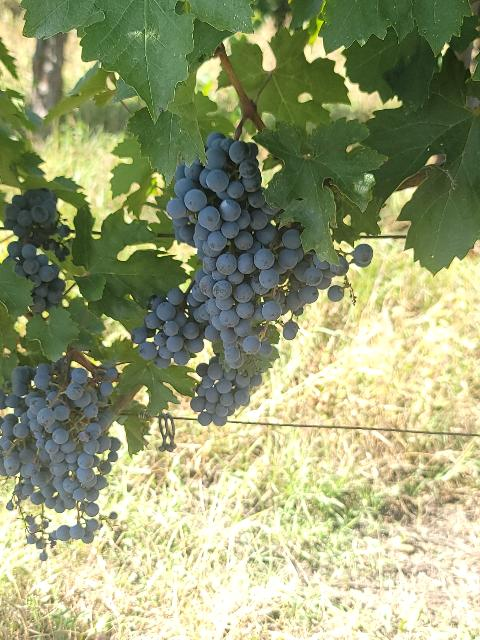grapes: (166, 132, 304, 339), (0, 355, 121, 518), (4, 189, 69, 315), (190, 356, 262, 426)
